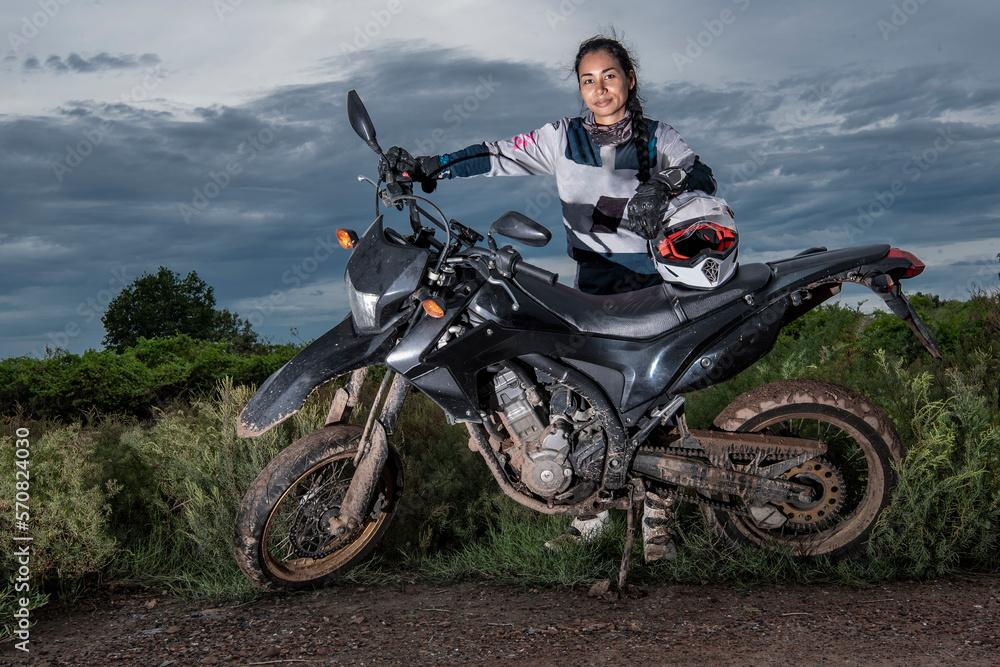helmet: (644, 188, 741, 292)
nohelmet: (573, 36, 638, 117)
